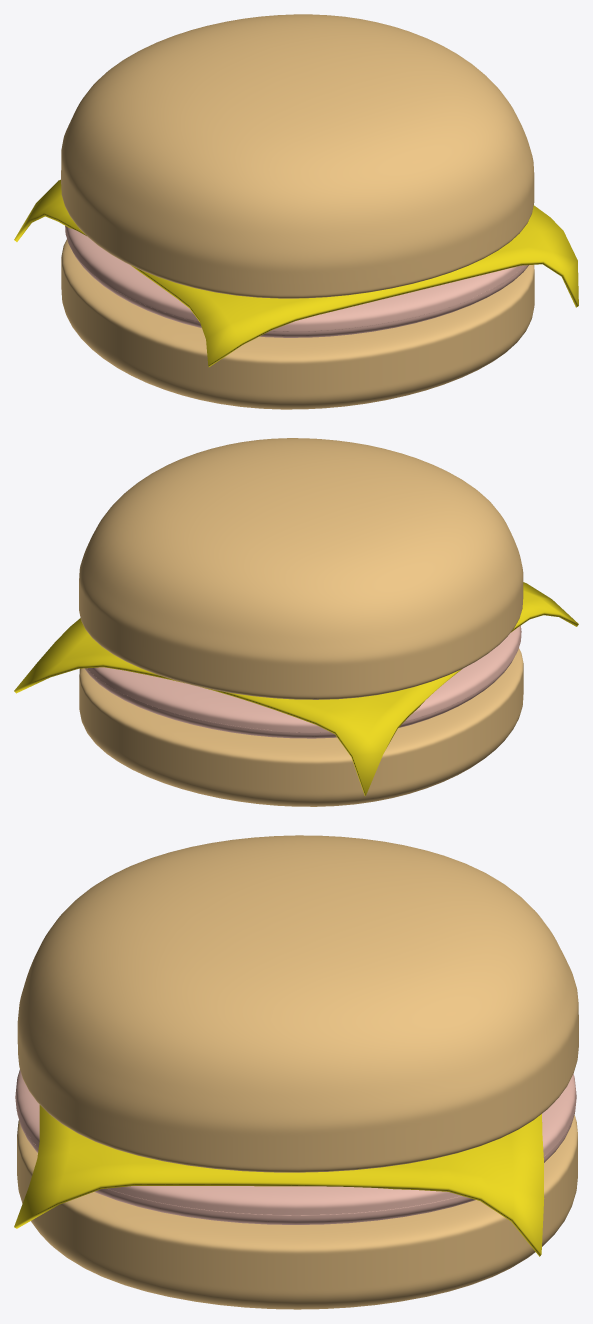
Rendered from hamburger.glb.
3 views of the same model, one above another, from view 1: azimuth 30°, elevation 25°; view 2: azimuth 150°, elevation 25°; view 3: azimuth 270°, elevation 25° (orthographic). The views are drawn at different scales.
Visible parts, largest first — view 1: Cube.004, Cube, Plane, Cube.002; view 2: Cube.004, Cube, Plane, Cube.002; view 3: Cube.004, Cube, Plane, Cube.002.
Boxes of the visible parts, <box> form: Cube.004: <box>61,14,534,298</box>; Cube: <box>61,239,534,409</box>; Plane: <box>14,179,578,366</box>; Cube.002: <box>65,226,528,337</box>; Cube.004: <box>79,438,523,699</box>; Cube: <box>79,648,523,806</box>; Plane: <box>14,582,578,795</box>; Cube.002: <box>84,626,521,738</box>; Cube.004: <box>17,835,578,1172</box>; Cube: <box>17,1115,577,1309</box>; Plane: <box>14,1105,544,1256</box>; Cube.002: <box>15,1069,576,1224</box>.
Bounding box in the file's own units: 9.31 × 5.94 × 9.27.
